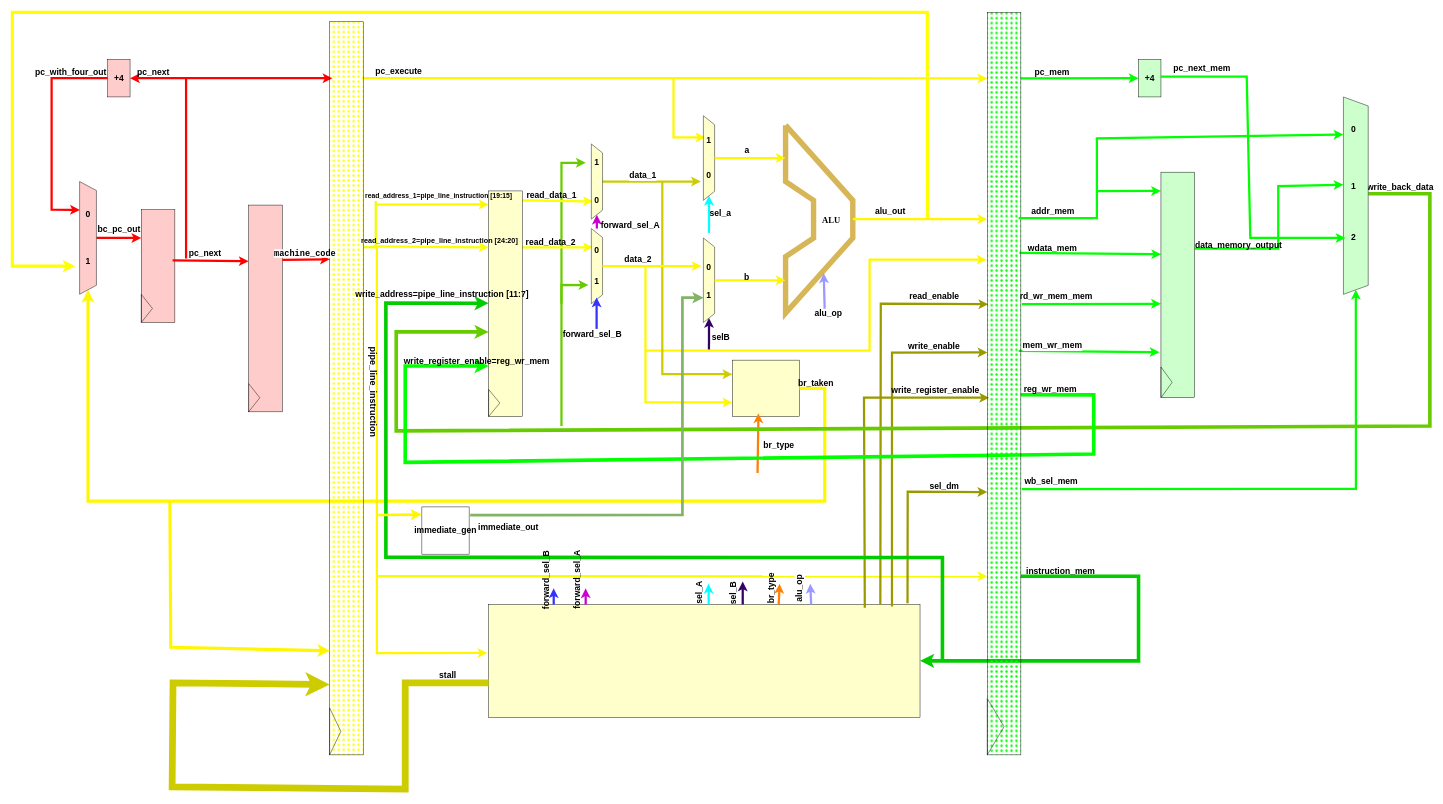
This 1443x804 diagram has some shape labels left out. Each missing label, with the box of its shape:
branch condition: (732, 360, 800, 417)
decoder: (488, 604, 920, 717)
